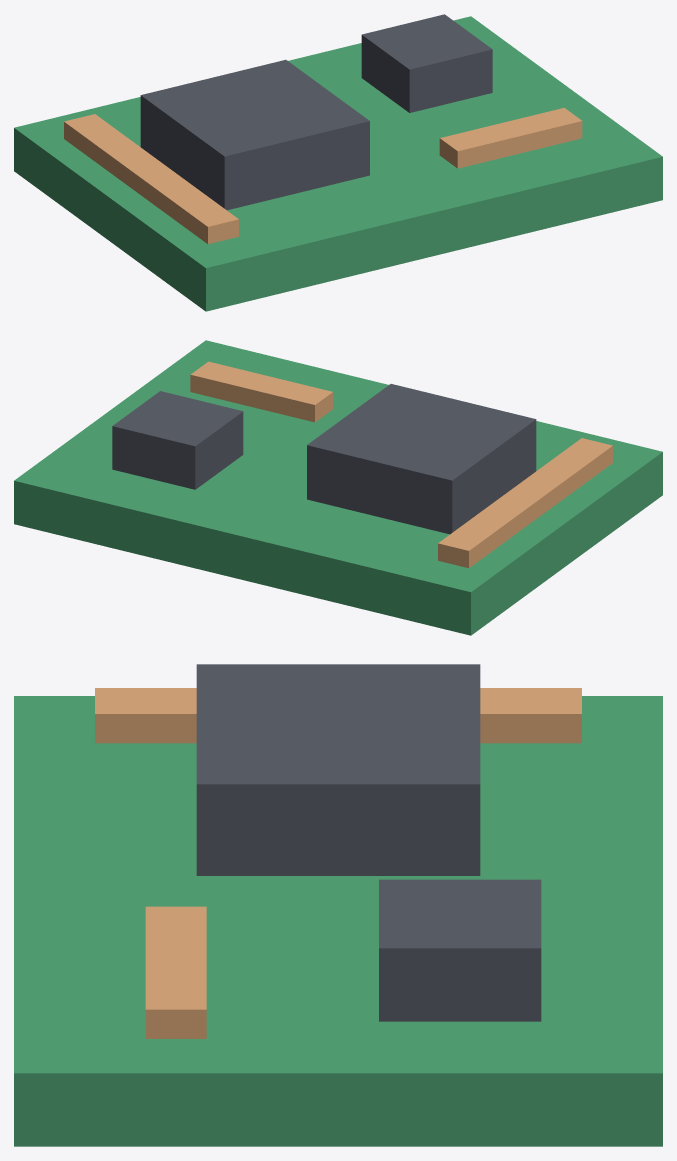
Rendered from circuito.glb.
The picture shows the model from 3 angles, top to bottom: view 1: azimuth 30°, elevation 25°; view 2: azimuth 150°, elevation 25°; view 3: azimuth 270°, elevation 25°; orthographic projection. The views are drawn at different scales.
Parts seen in each view (by area): view 1: circuito; view 2: circuito; view 3: circuito.
Boxes of the visible parts, x1=… form: circuito: x1=14, y1=14, x2=662, y2=311; circuito: x1=14, y1=340, x2=662, y2=635; circuito: x1=14, y1=664, x2=662, y2=1146.
Size of the model in its own units: 0.22 by 0.045 by 0.16.
